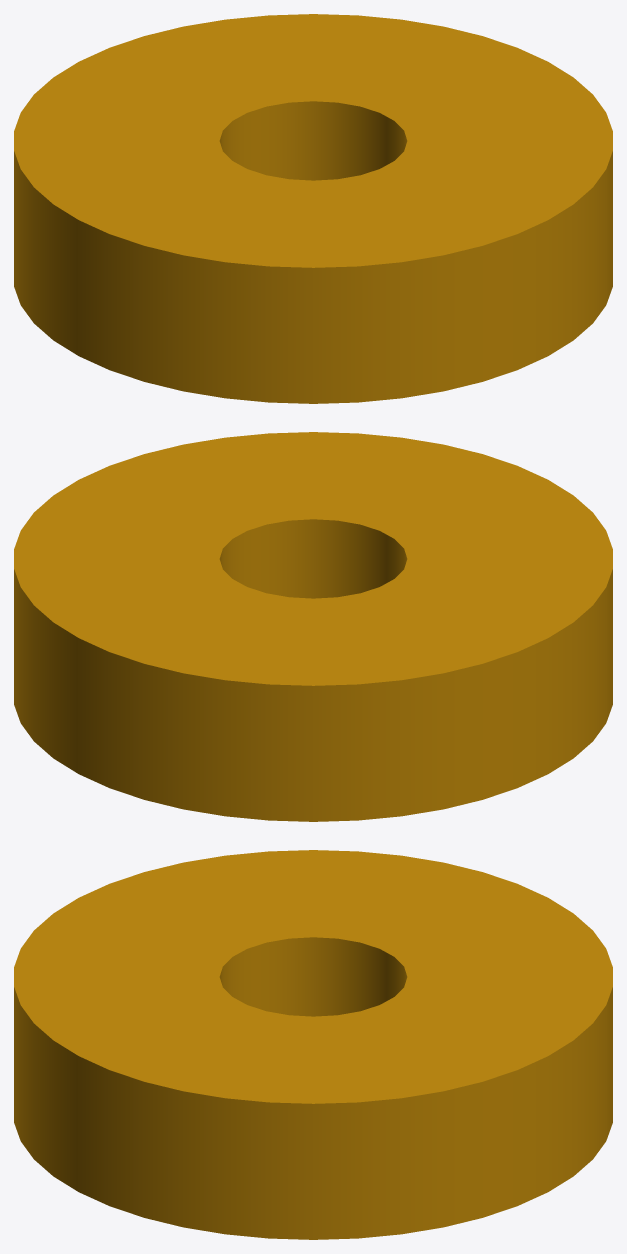
File: Rolamento.obj
3 renders of one model, top to bottom at view 1: azimuth 30°, elevation 25°; view 2: azimuth 150°, elevation 25°; view 3: azimuth 270°, elevation 25°, orthographic.
Visible parts, largest first — view 1: Corpo2; view 2: Corpo2; view 3: Corpo2.
Part boxes in pixels (x1,y1,x2,y2): Corpo2: [14, 14, 612, 403]; Corpo2: [14, 432, 612, 821]; Corpo2: [14, 850, 612, 1239].
Bounding box in the file's own units: 8 × 2 × 7.98.
